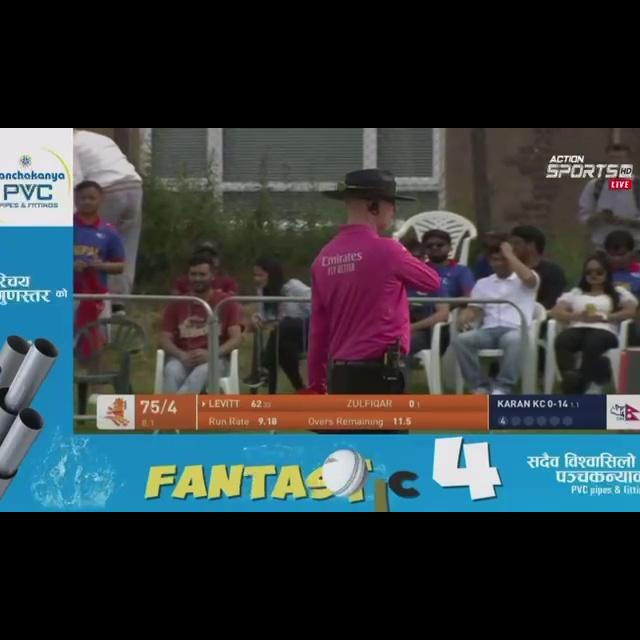umpire: (280, 170, 469, 397)
